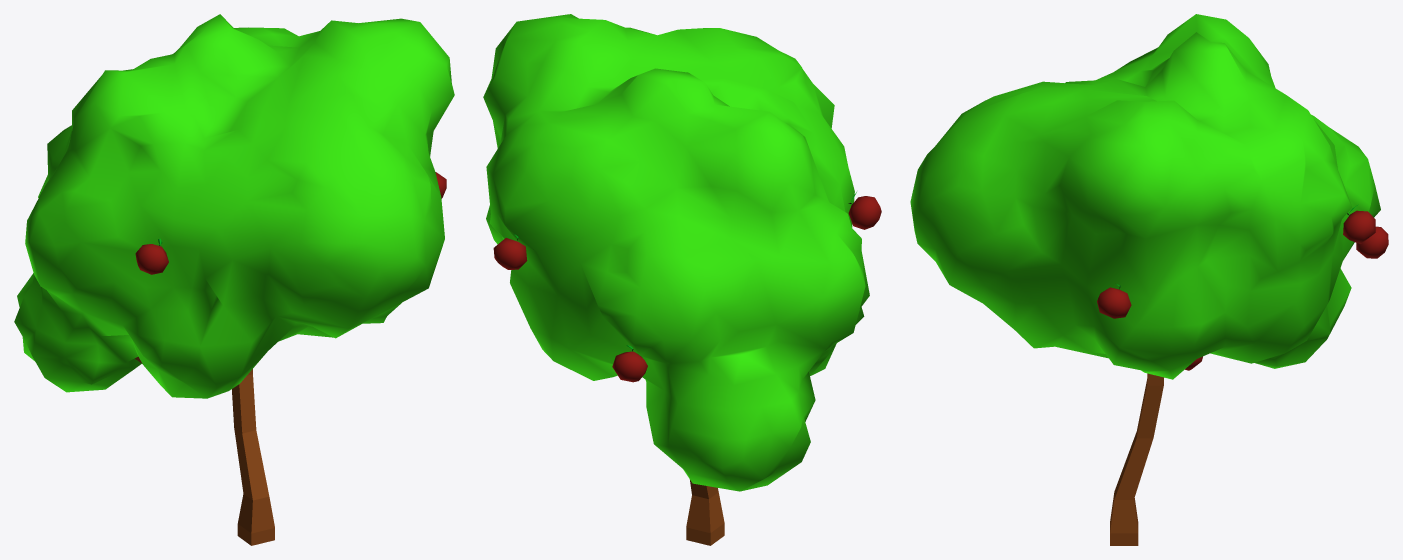
File: SM_AppleTree_001_LOD2.fbx
3 renders of one model, left to right at view 1: azimuth 30°, elevation 25°; view 2: azimuth 150°, elevation 25°; view 3: azimuth 270°, elevation 25°, orthographic. The views are drawn at different scales.
Visible parts, largest first — view 1: AppleTree; view 2: AppleTree; view 3: AppleTree.
Part boxes in pixels (left/top/right/bottom): AppleTree: left=14, top=14, right=454, bottom=545; AppleTree: left=483, top=14, right=881, bottom=545; AppleTree: left=910, top=14, right=1388, bottom=545.
Size of the model in its own units: 323 by 385 by 335.
